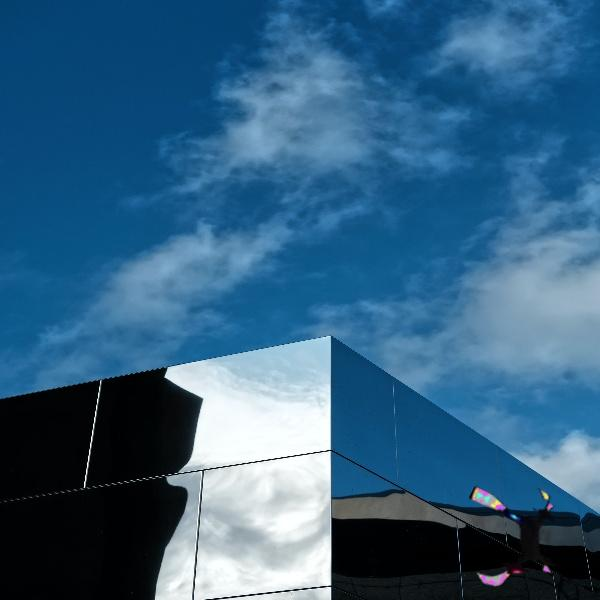drone: (457, 480, 574, 597)
